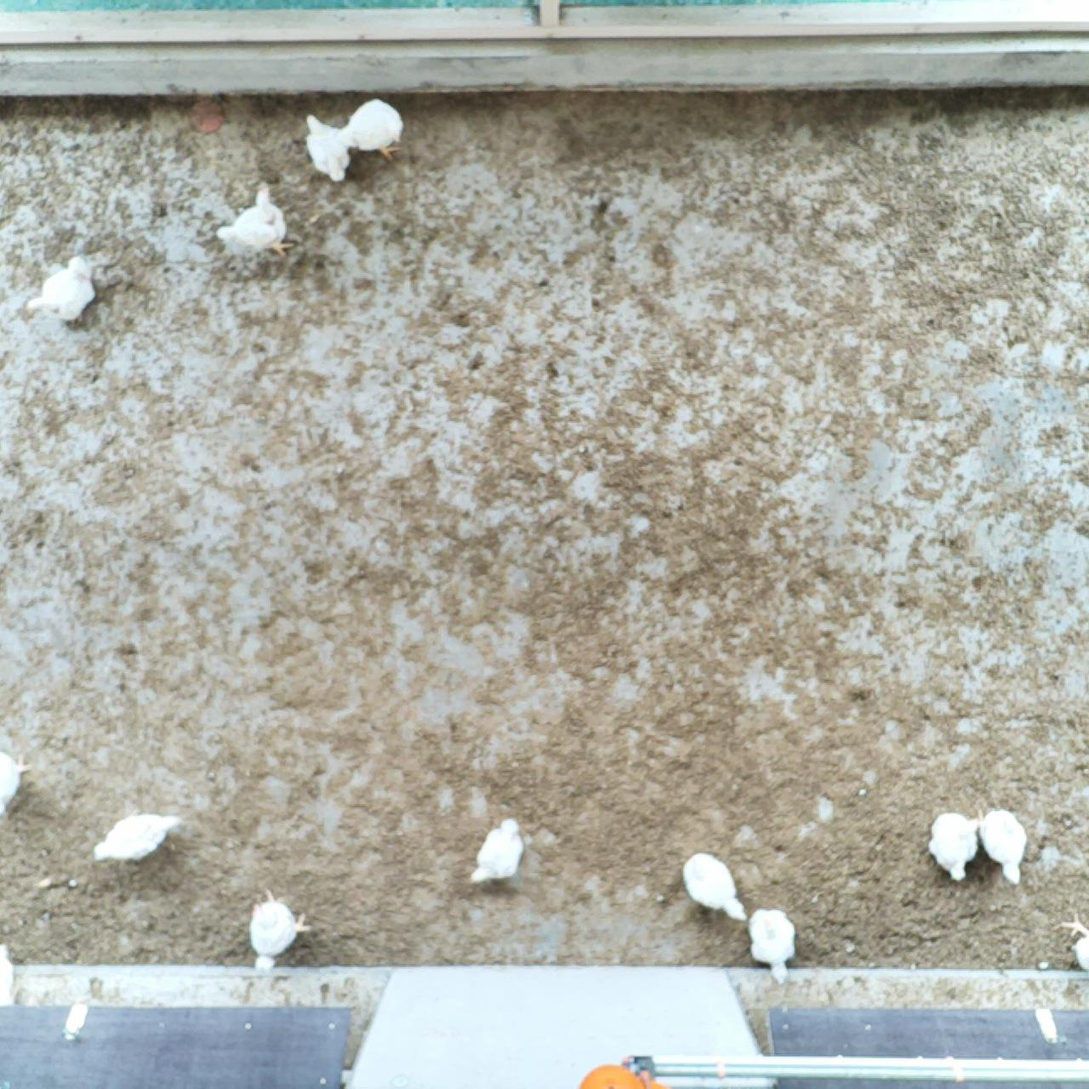chicken: (211, 181, 298, 267), (23, 252, 101, 334), (244, 884, 312, 974), (90, 811, 182, 869), (679, 849, 748, 925), (743, 906, 802, 992), (466, 814, 528, 891), (342, 95, 408, 163), (923, 808, 981, 885), (979, 809, 1032, 890), (301, 111, 355, 187), (0, 747, 34, 817), (0, 940, 24, 1007)
